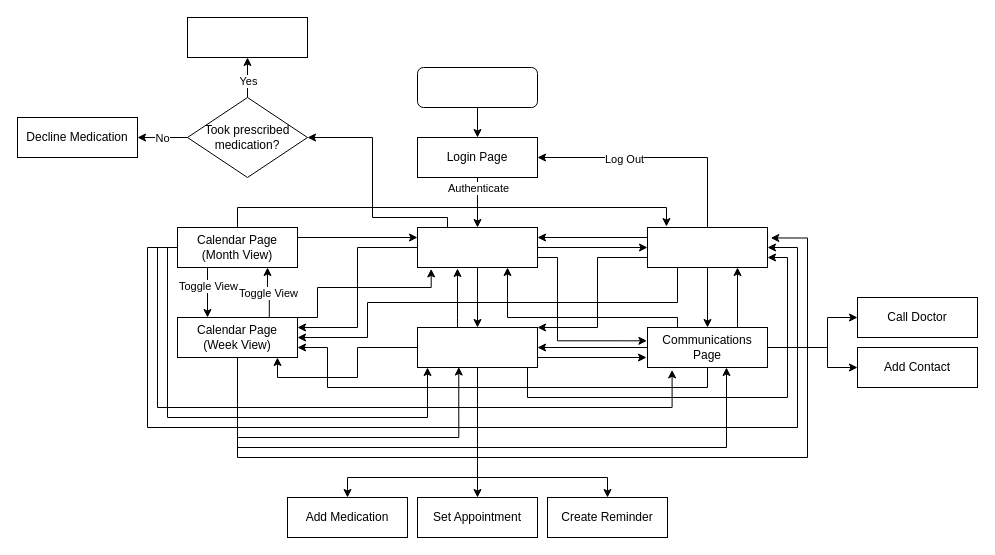
Image size: 995x555. Some labels were removed from this diagram. Here are the shapes that lost their labels. From the top down, the box of each, then its label:
(186, 16, 308, 58): Approve Medication
(416, 66, 538, 108): Start (Open app)
(416, 226, 538, 268): Home page
(646, 226, 768, 268): Profile Page
(416, 326, 538, 368): Health Log Page
